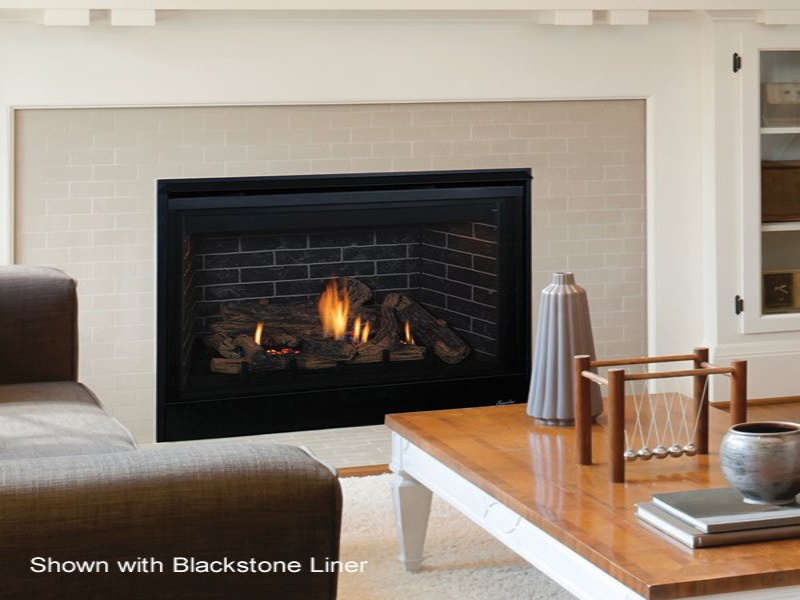fire: (316, 273, 352, 340), (356, 314, 371, 345), (250, 318, 265, 346), (403, 324, 414, 343)
